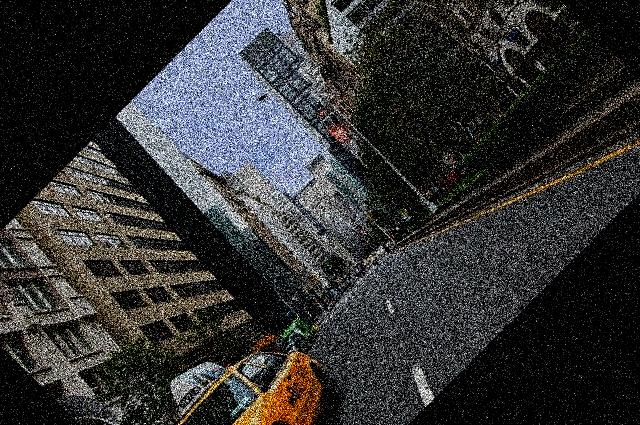taxi: (177, 335, 332, 425)
